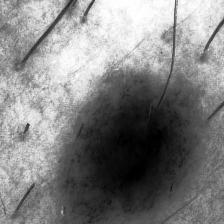Benign Marking or Mole: (61, 75, 194, 224)
